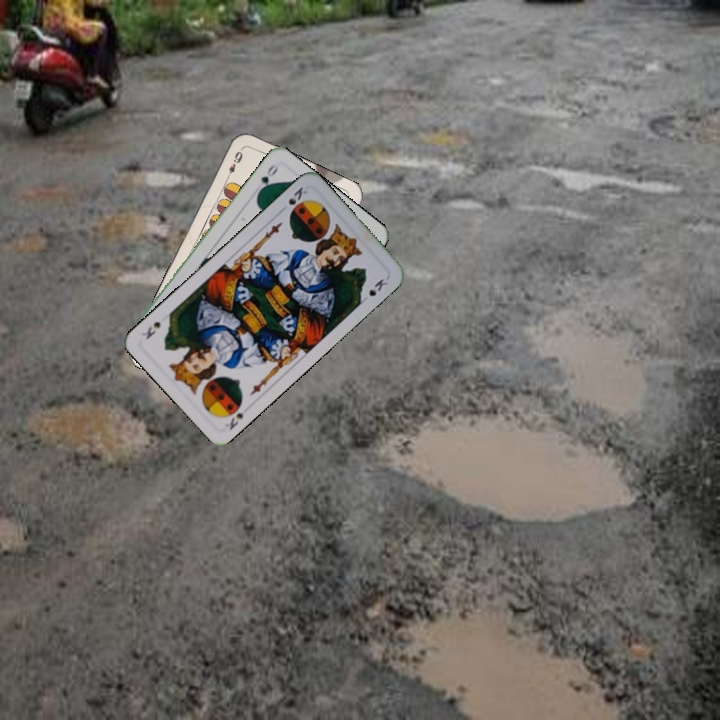E9: (222, 145, 245, 183)
GO: (254, 160, 280, 197)
SK: (276, 182, 310, 215), (221, 409, 247, 433)
